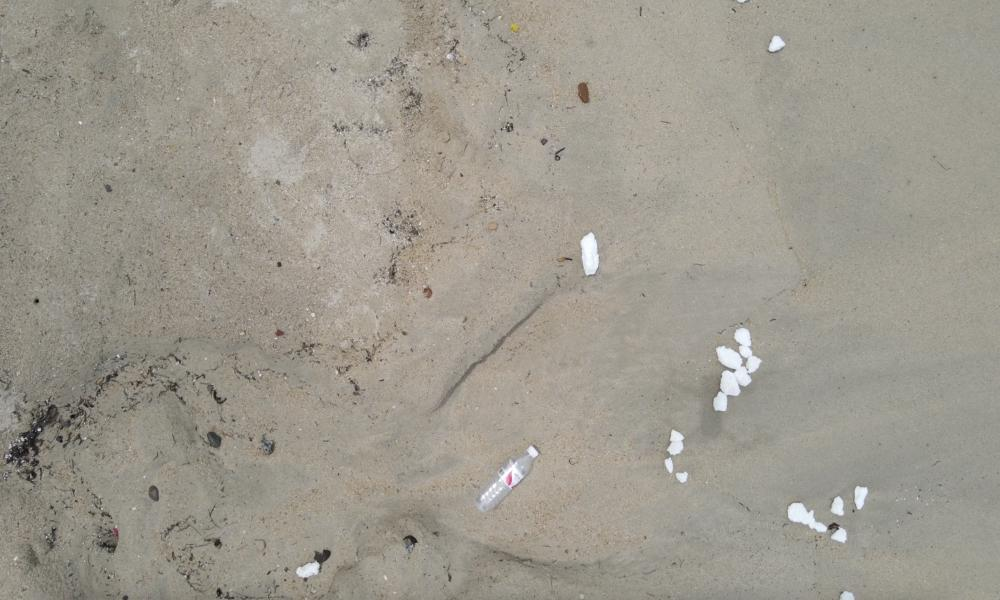plastic bottle: (480, 446, 537, 510)
styrofoam: (716, 368, 750, 412), (785, 500, 825, 534), (581, 232, 600, 277), (718, 345, 742, 369), (295, 559, 319, 579), (669, 434, 686, 456)
